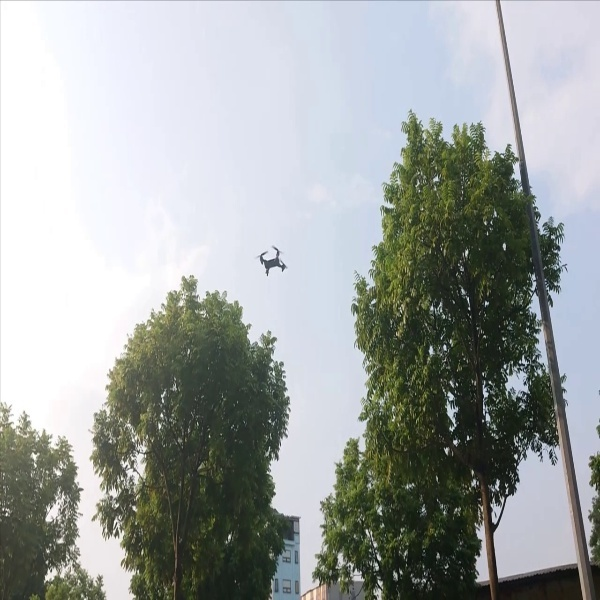drone: (253, 237, 298, 283)
